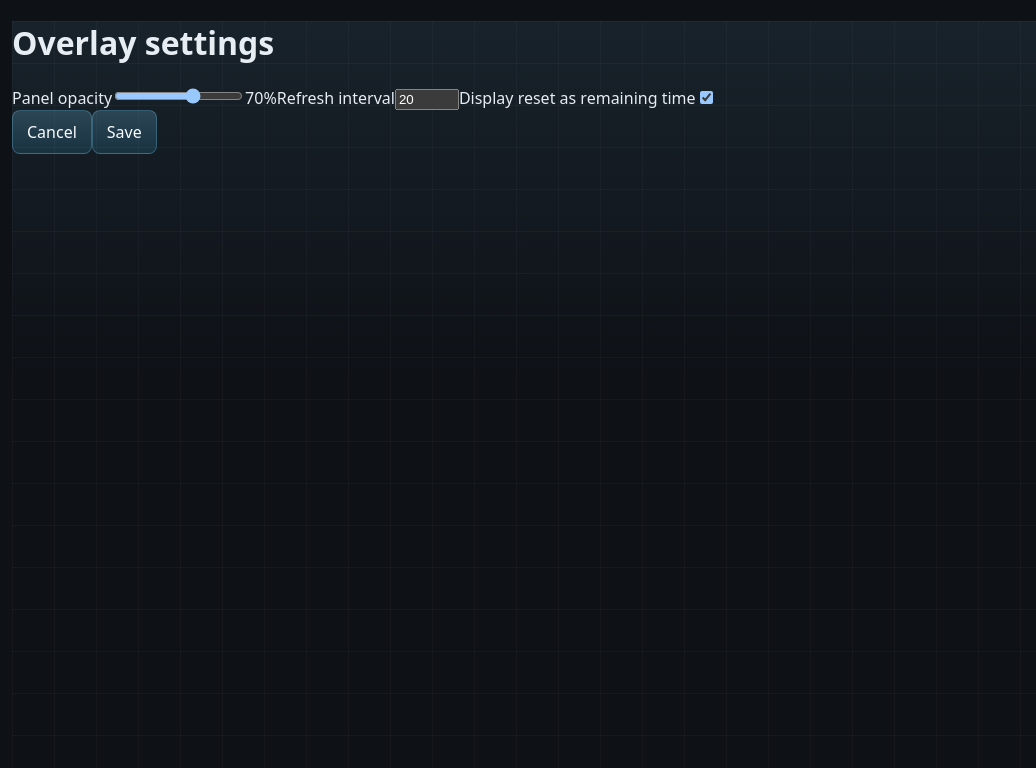
Test: SettingsDialog › form error가 있으면 표시하고 창을 닫지 않는다
Expected: the number field labelled "Refresh interval" holds "20", [395,89,459,110]
Click the button "Save": x=124, y=132 [92,110,157,154]
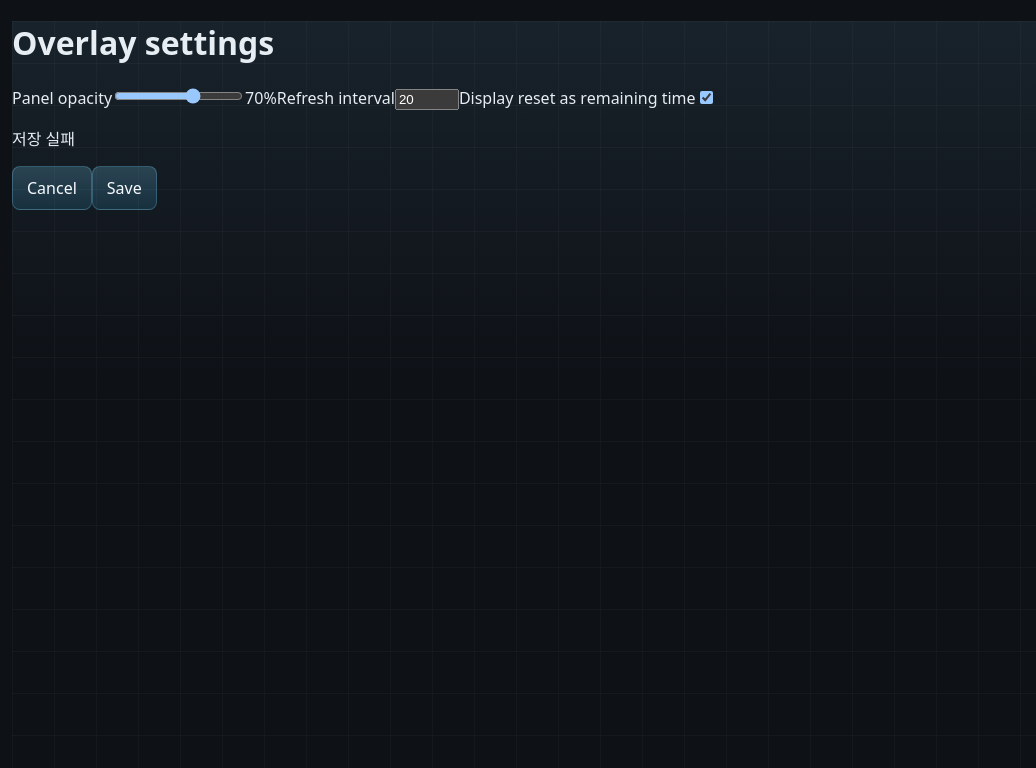
Result: the text "저장 실패" is shown at [12,128,75,150]
